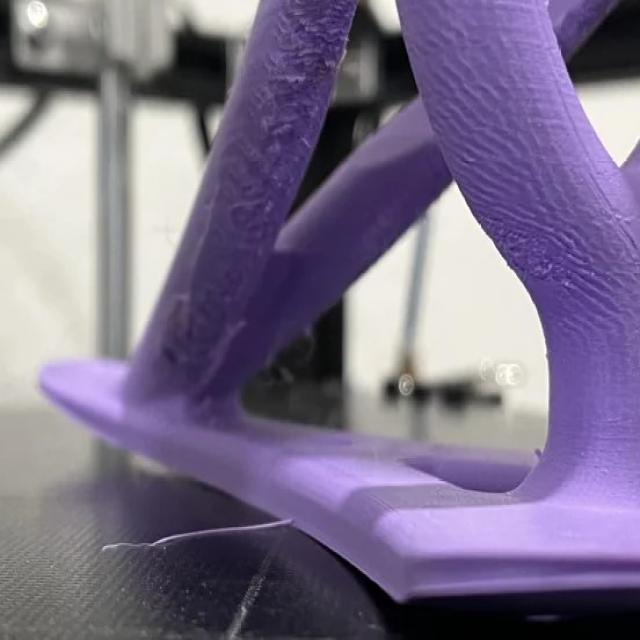Warping: (30, 371, 107, 439), (356, 565, 434, 616)
